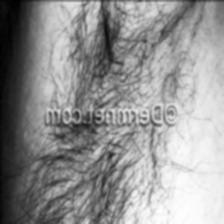Unclassified: (50, 39, 154, 105), (51, 132, 161, 186)
